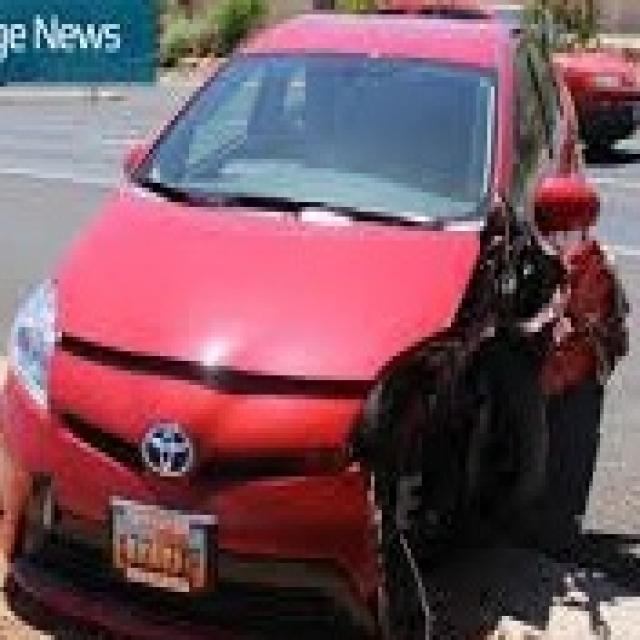red: (7, 20, 622, 623)
